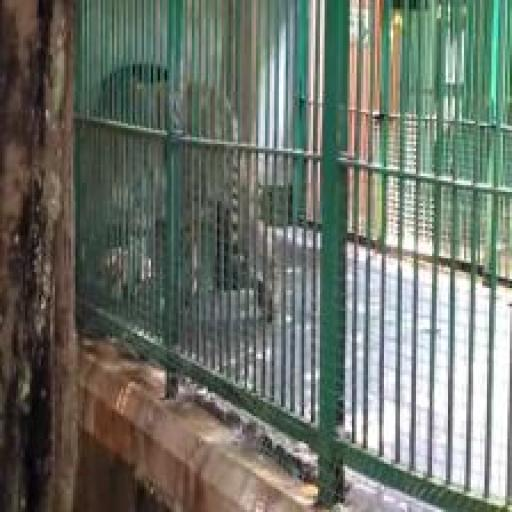Tiger: (71, 32, 283, 347)
